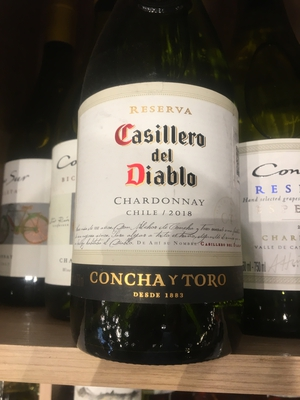casillero del diablo chardonnay: (70, 17, 253, 368)
